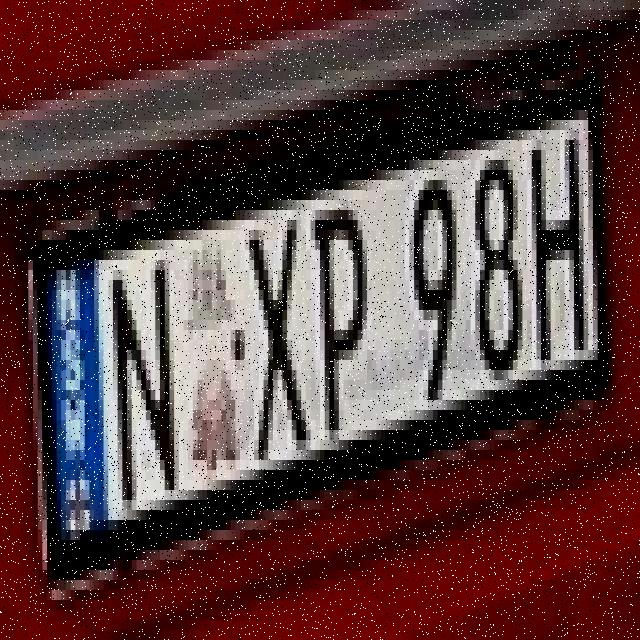licenseplate: (20, 63, 615, 597)
